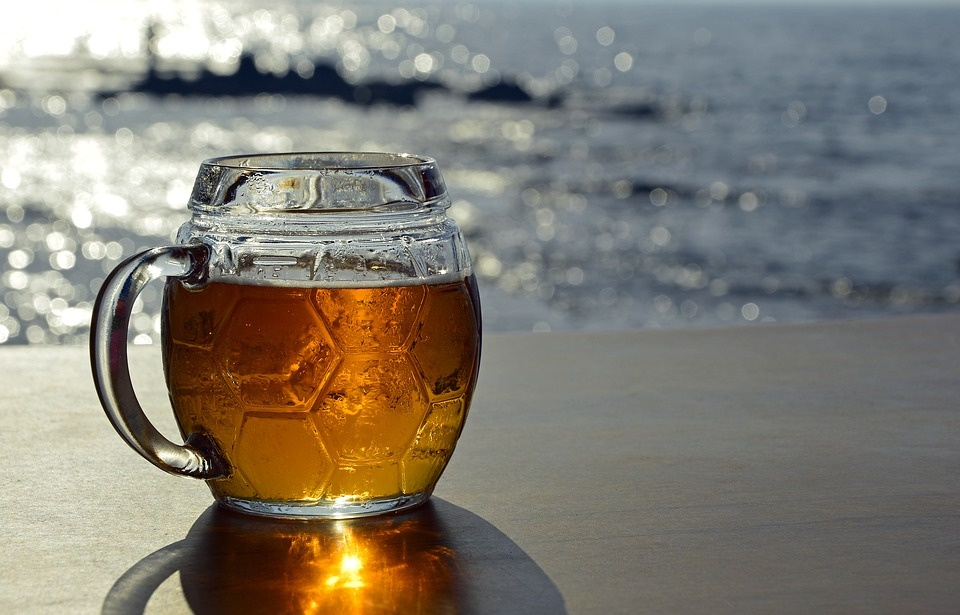glassBeer: (154, 150, 464, 531)
